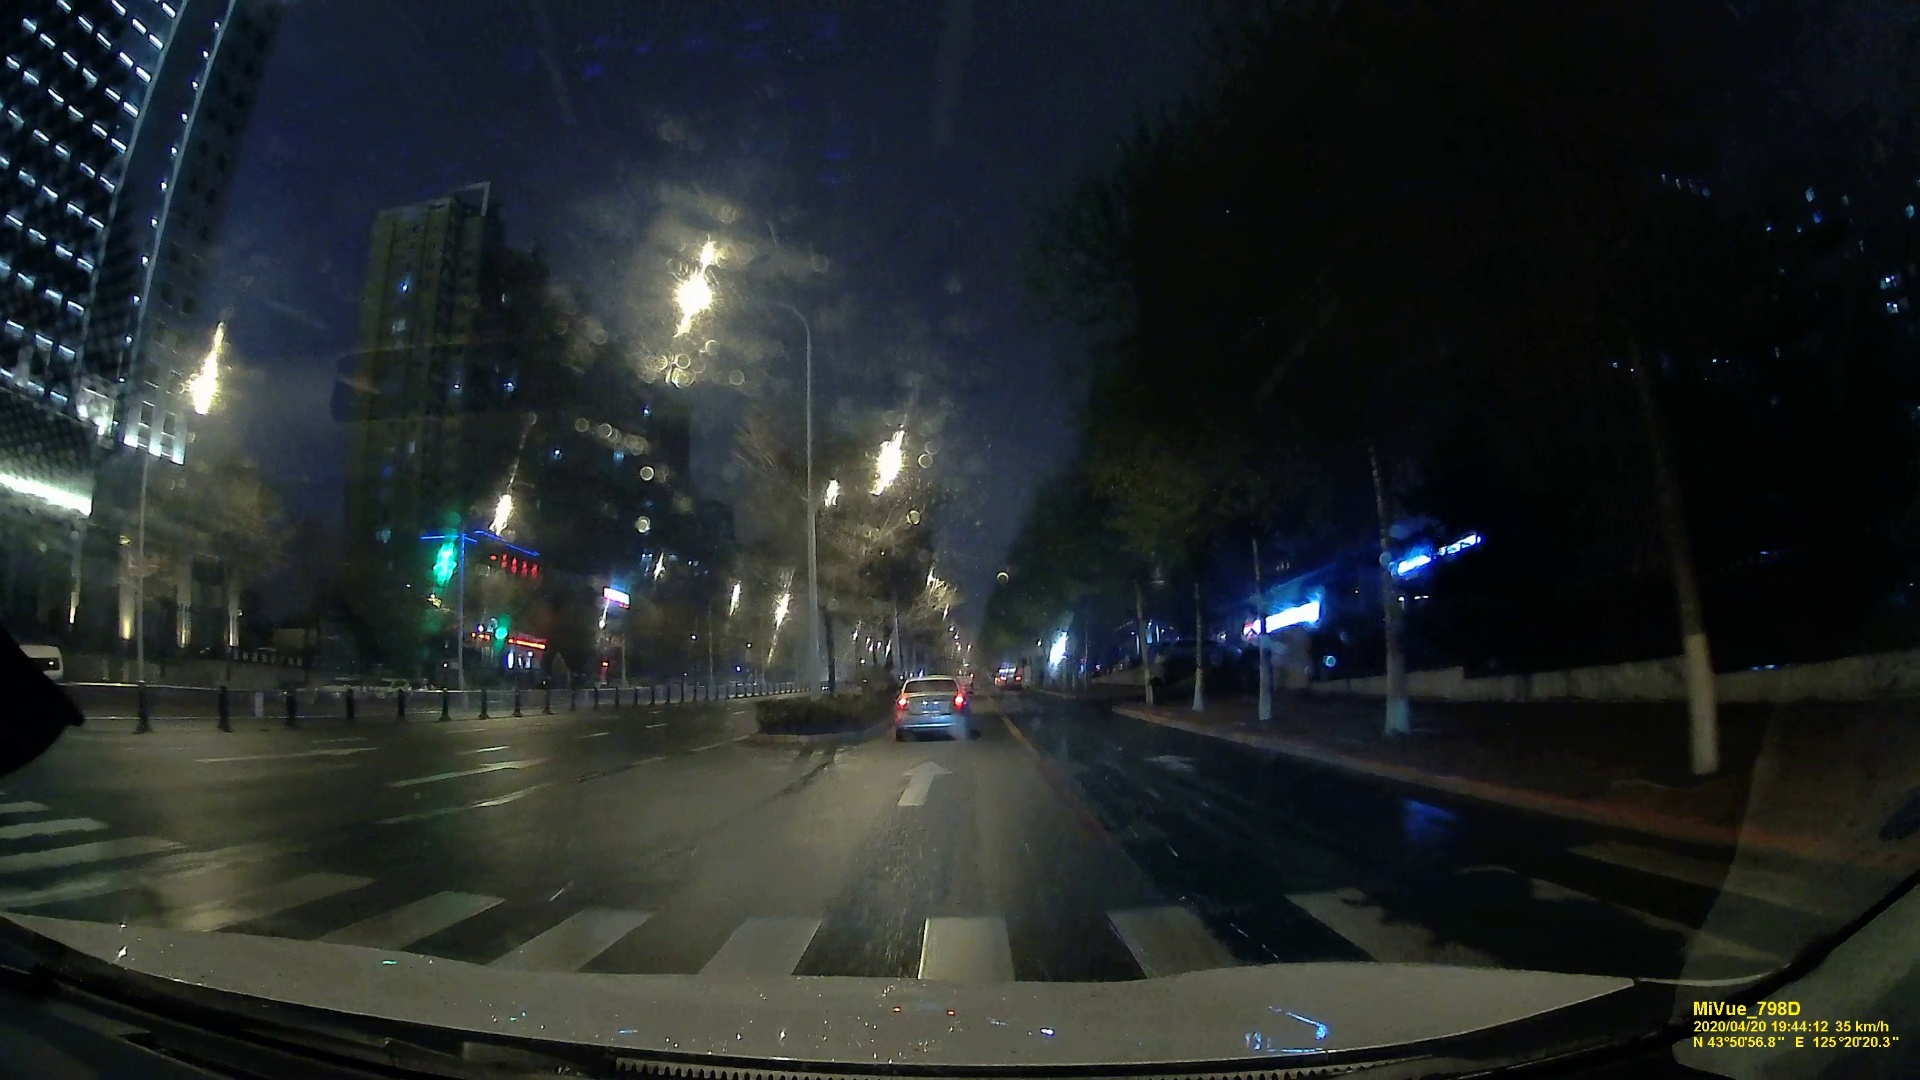vehicle: (893, 676, 967, 735)
